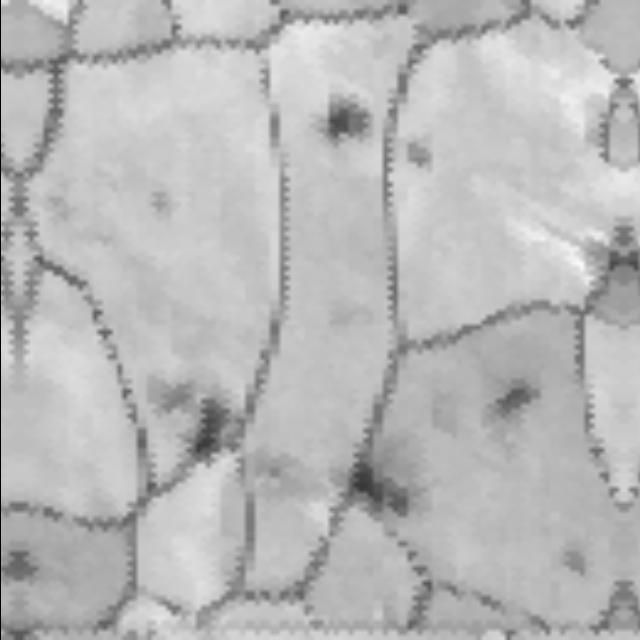good_void: (346, 443, 407, 521), (187, 394, 237, 468), (323, 94, 372, 148), (492, 371, 536, 429), (401, 136, 435, 179), (554, 547, 588, 577)
